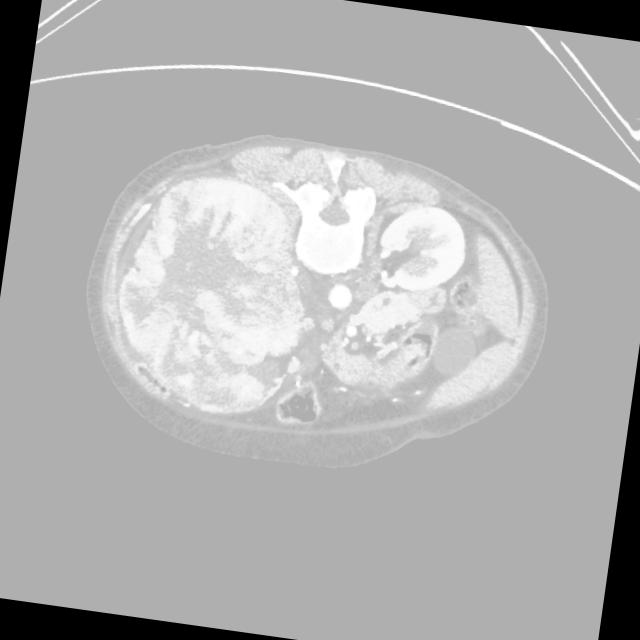TUMOR: (301, 203, 544, 498)
